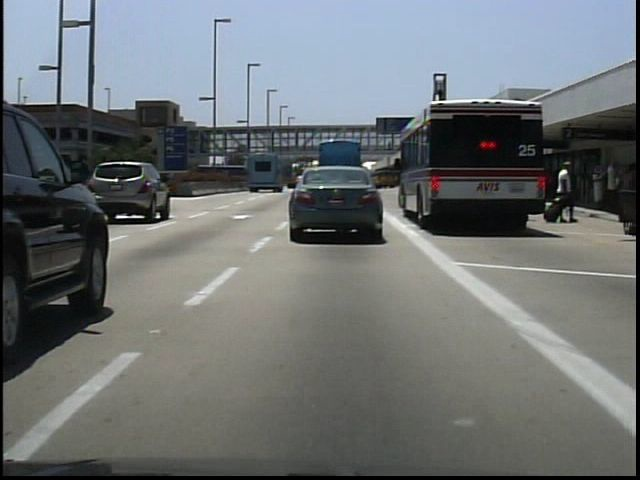person: (552, 157, 578, 227)
